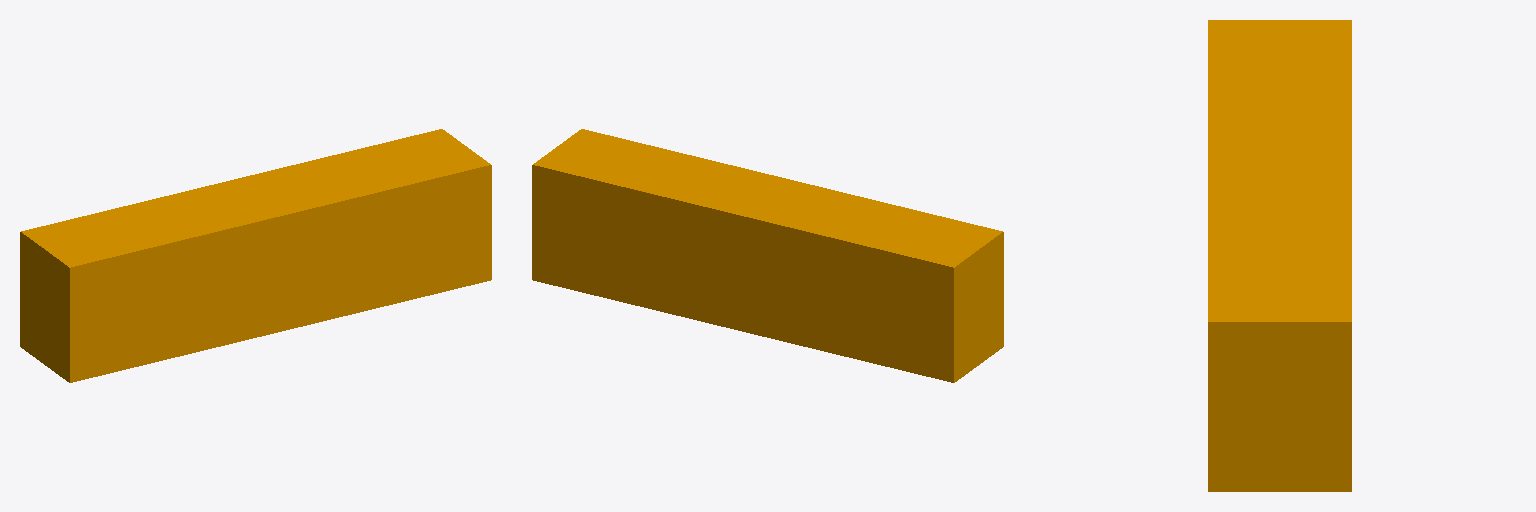
URDF robot description (paste):
<?xml version="1.0"?>
<robot name="paste">
    <link name="paste_base_link">
        <contact>
            <lateral_friction value="1.0"/>
            <spinning_friction value="0.01"/>
            <rolling_friction value="0.01"/>
            <contact_cfm value="0.0"/>
            <contact_erp value="1.0"/>
        </contact>
        <inertial>
            <origin rpy="0 0 0" xyz="0 0 0"/>
            <mass value="0.124"/>
            <inertia ixx="1" ixy="0" ixz="0" iyy="1" iyz="0" izz="1"/>
        </inertial>
        <visual>
            <origin rpy="0 0 1.5708" xyz="0 0 0"/>
            <geometry>
                <mesh filename="cuboid/visual/paste.obj" scale="1.0 1.0 1.0"/>
            </geometry>
        </visual>
        <collision>
            <origin rpy="0 0 1.5708" xyz="0 0 0"/>
            <geometry>
                <mesh filename="cuboid/collision/paste.stl" scale="1.0 1.0 1.0"/>
            </geometry>
        </collision>
    </link>
</robot>

--- Render facts (derived) ---
Views: 3 orthographic renders of the robot side by side, from view 1: azimuth 30°, elevation 25°; view 2: azimuth 150°, elevation 25°; view 3: azimuth 270°, elevation 25°.
Model paste with 1 links and 0 joints (none), rooted at paste_base_link, posed all joints at 0.
Visible links, largest first — view 1: paste_base_link; view 2: paste_base_link; view 3: paste_base_link.
Boxes of the visible links, bbox=[...] form: paste_base_link: bbox=[20, 129, 491, 382]; paste_base_link: bbox=[532, 129, 1003, 382]; paste_base_link: bbox=[1208, 20, 1351, 491].
Size in the robot's own frame: 0.168 by 0.034 by 0.044 metres.
1 mesh visuals loaded from 1 distinct referenced files (1 OBJ).